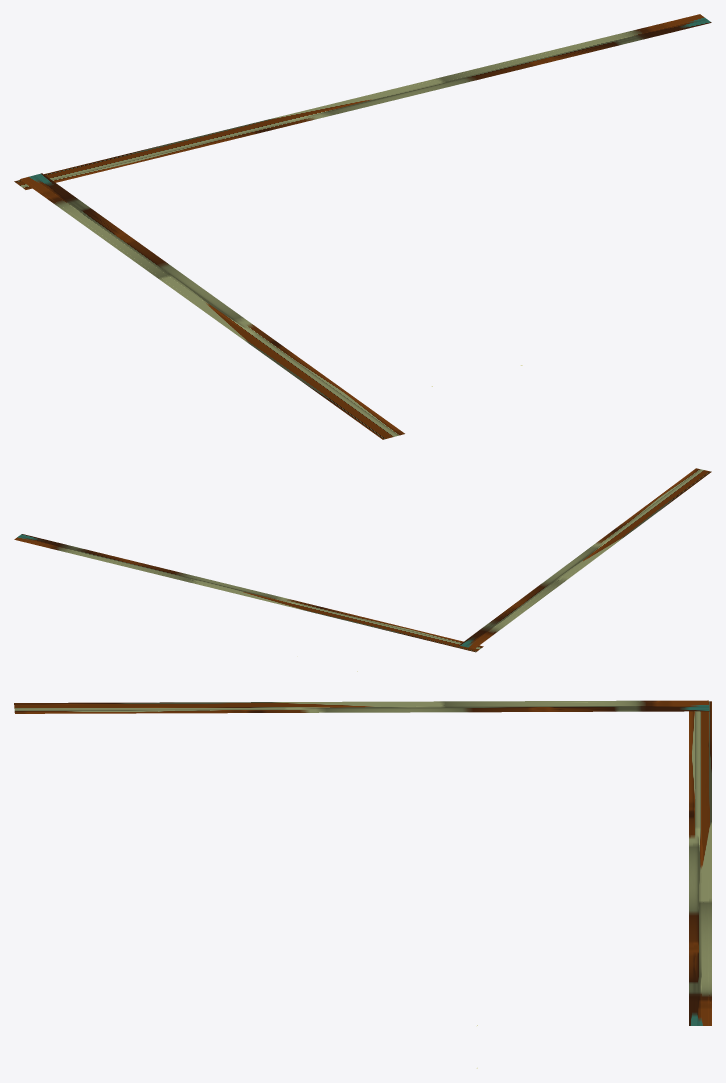
File: bar_mesh.001.001_lev1.glb
3 views of the same model, one above another, from view 1: azimuth 30°, elevation 25°; view 2: azimuth 150°, elevation 25°; view 3: azimuth 270°, elevation 25° (orthographic). The views are drawn at different scales.
Parts seen in each view (by area): view 1: bar_mesh.001.001_lev1; view 2: bar_mesh.001.001_lev1; view 3: bar_mesh.001.001_lev1.
Part boxes in pixels (x1,y1,x2,y2): bar_mesh.001.001_lev1: (14,14,711,439); bar_mesh.001.001_lev1: (14,468,711,671); bar_mesh.001.001_lev1: (14,700,711,1068).
Size of the model in its own units: 21.34 by 5.71 by 19.38.
Materials: 1 (1 with a texture image).
